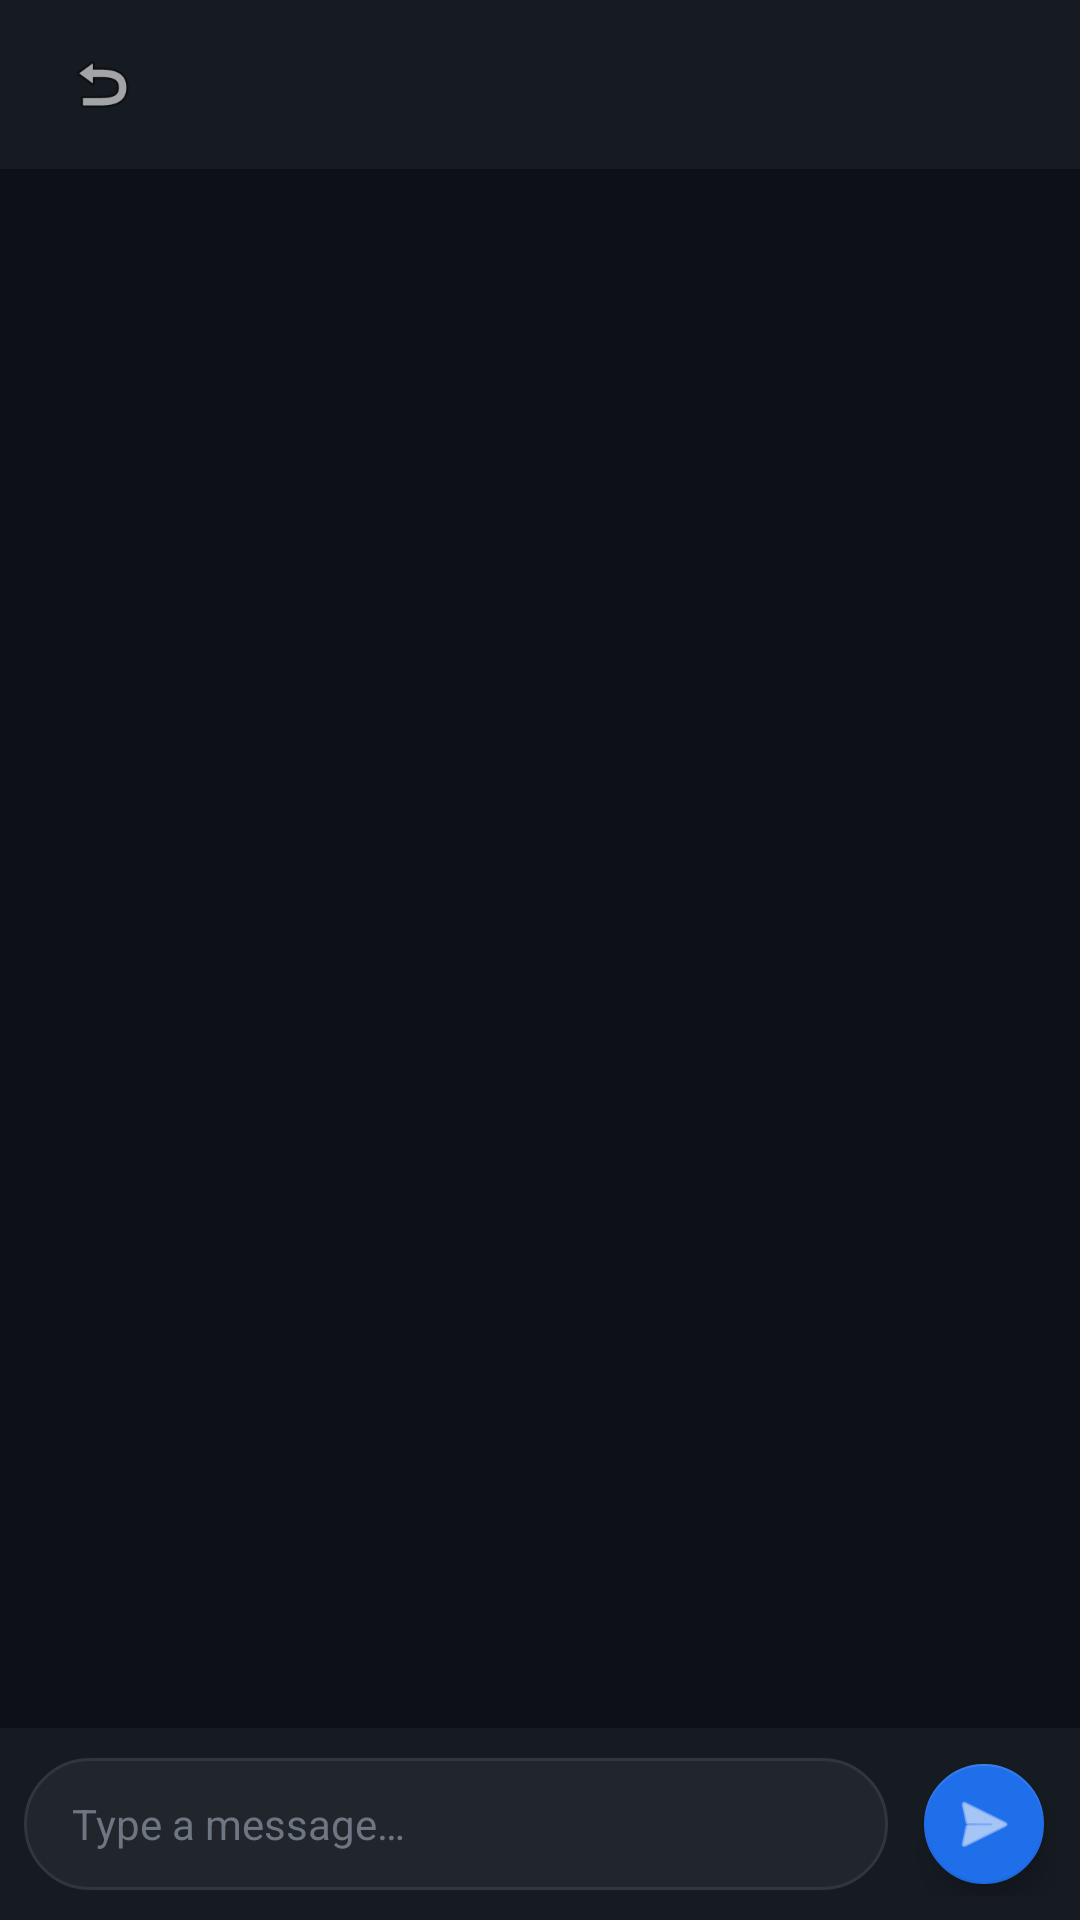

Named icons in this screenshot (1080px x 1920px) and their centers, (x=x, y=y):
Back: (x=103, y=84)
send: (x=984, y=1824)
